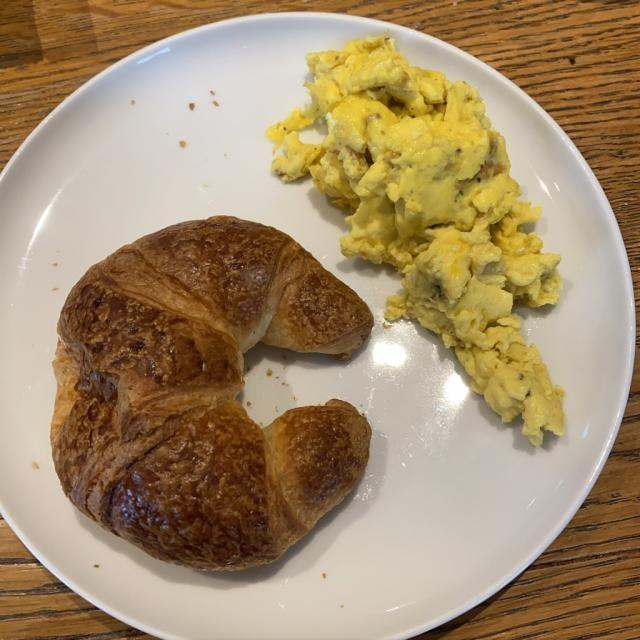eggs: (279, 56, 561, 465)
